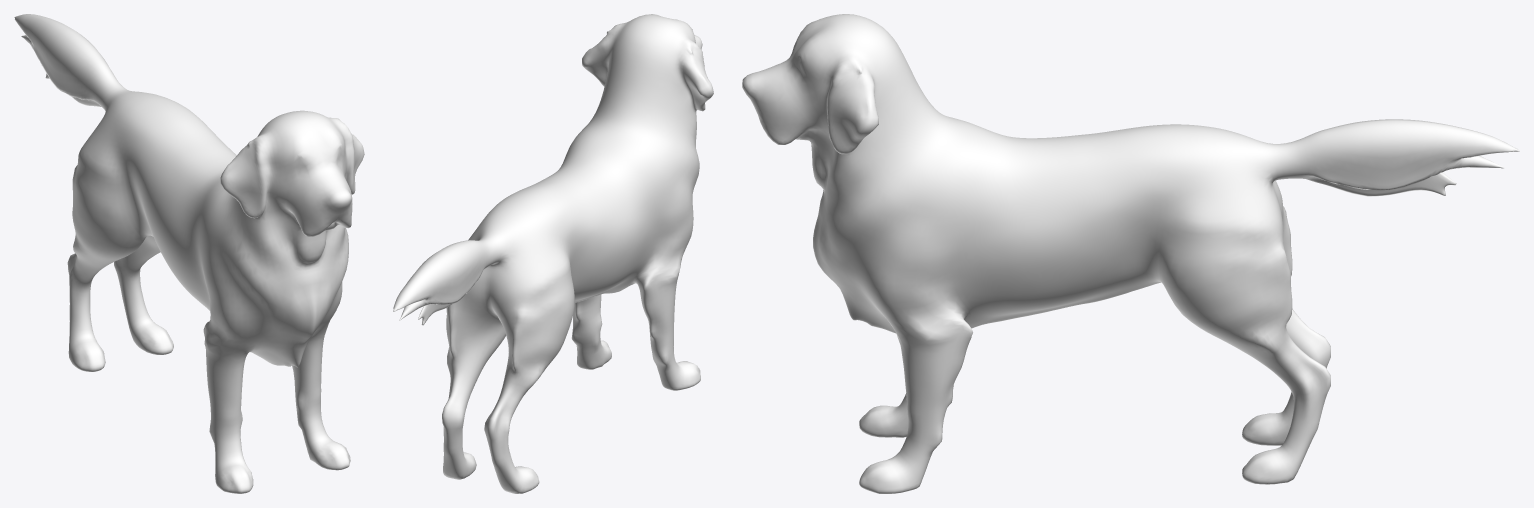
Rendered from Boop AR.glb.
3 views of the same model, side by side, from view 1: azimuth 30°, elevation 25°; view 2: azimuth 150°, elevation 25°; view 3: azimuth 270°, elevation 25° (orthographic). The views are drawn at different scales.
Visible parts, largest first — view 1: model; view 2: model; view 3: model.
Boxes of the visible parts, x1,y1,x2,y2 form: model: (14,14,364,493); model: (393,14,713,493); model: (742,14,1519,493).
Size of what is drawn, in the model's own units: 0.472 by 1.18 by 1.9.
Materials: 1 (1 with a texture image).
